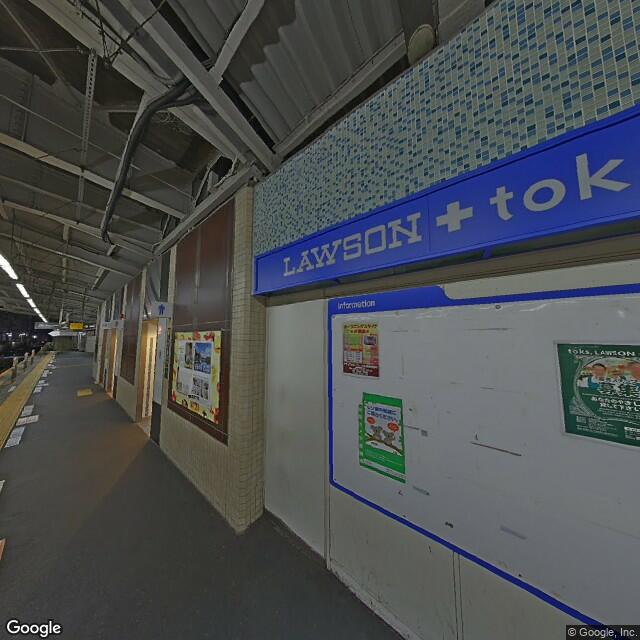lawson: (258, 107, 637, 296)
